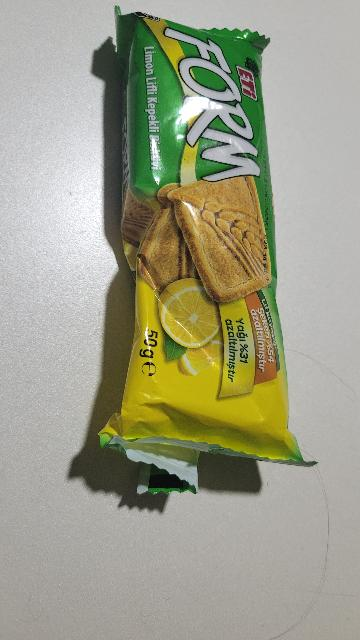Plastik: (106, 3, 319, 528)
